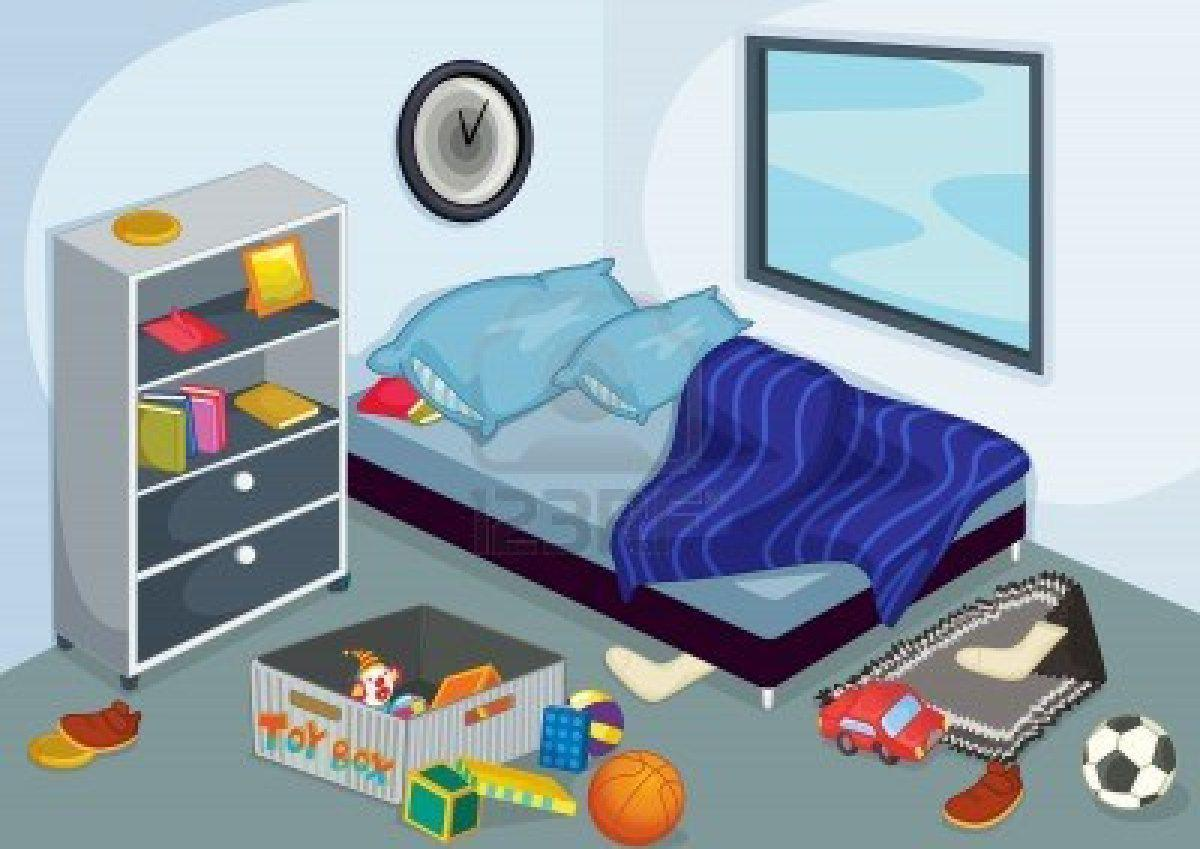car: (823, 681, 946, 765)
